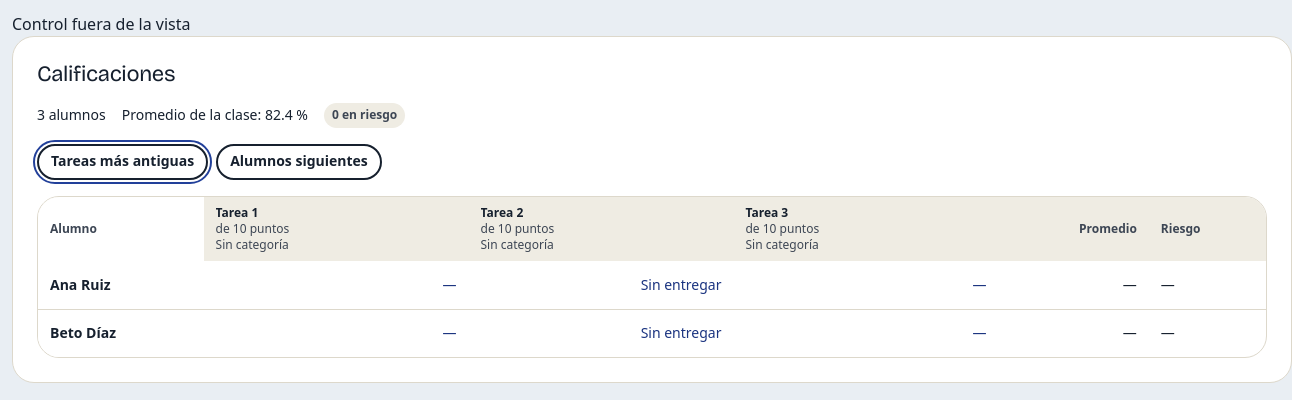
Test: N-48: el gradebook no roba el foco a quien lo movió mientras llegaba la ventana › CAL-T-143: red — pulsa «Tareas más antiguas», tabula a «Alumnos siguientes» durante la carga; al llegar la ventana (el botón pulsado desaparece) el foco se qued
Click the button "Tareas más antiguas".
click(123, 162)  # box [37, 144, 208, 180]
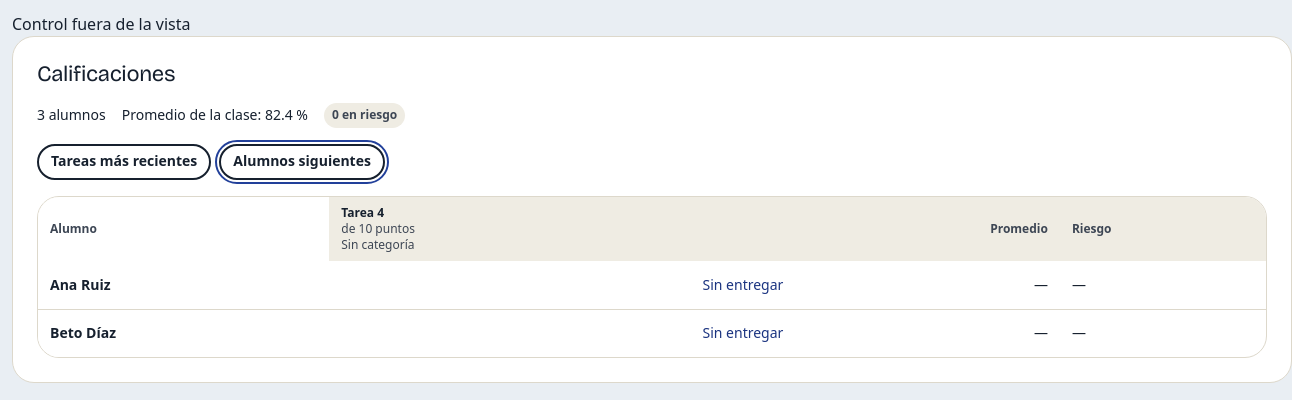
expect the button "Tareas más antiguas" is gone: met
